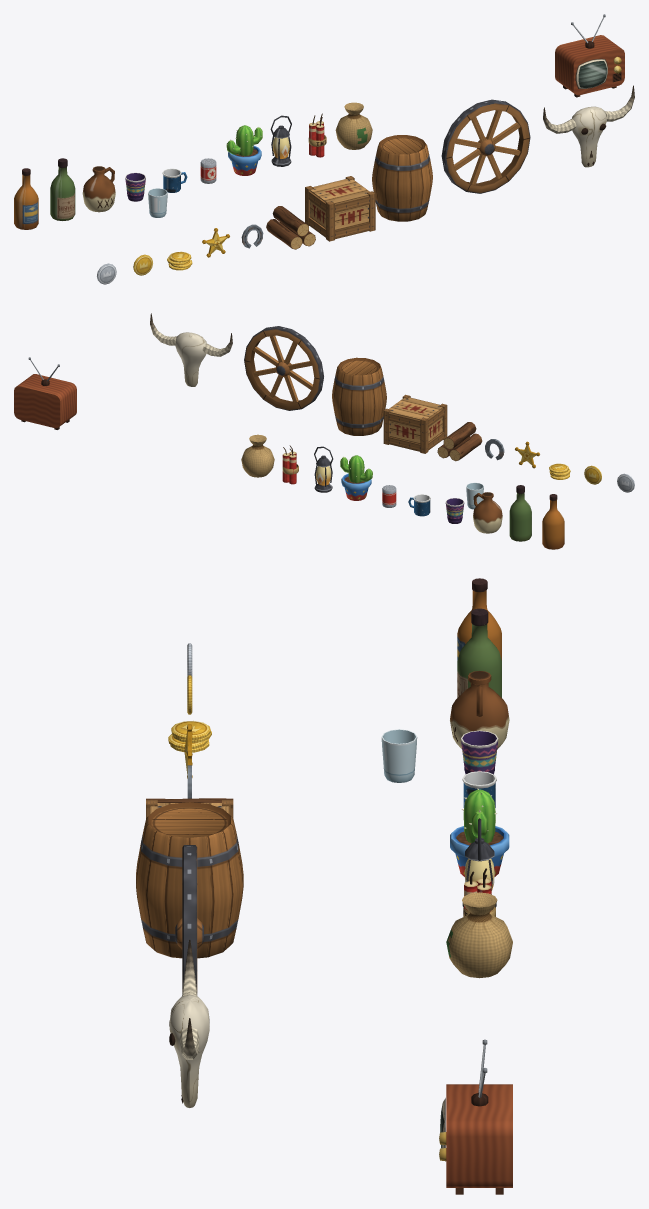
The model's file is rekvizity.glb.
The picture shows the model from 3 angles, top to bottom: view 1: azimuth 30°, elevation 25°; view 2: azimuth 150°, elevation 25°; view 3: azimuth 270°, elevation 25°; orthographic projection. The views are drawn at different scales.
Parts seen in each view (by area): view 1: prop_barrel, prop_wheel, prop_crate, prop_tv, prop_skull, prop_cactus_pot, prop_logs, prop_sack, prop_bottle_green, prop_jug, prop_bottle_amber, prop_lantern (+6 smaller); view 2: prop_barrel, prop_wheel, prop_crate, prop_tv, prop_skull, prop_cactus_pot, prop_logs, prop_sack, prop_bottle_green, prop_jug, prop_bottle_amber, prop_lantern (+4 smaller); view 3: prop_barrel, prop_tv, prop_sack, prop_skull, prop_jug, prop_cactus_pot, prop_bottle_green, prop_wheel, prop_glass_clear, prop_glass_striped, prop_bottle_amber, prop_lantern (+1 smaller).
Part boxes in pixels (box(x1,y1,x2,y2)): prop_barrel: box(372, 135, 432, 221); prop_wheel: box(441, 99, 530, 193); prop_crate: box(305, 176, 375, 241); prop_tv: box(555, 14, 624, 97); prop_skull: box(543, 85, 634, 167); prop_cactus_pot: box(226, 125, 262, 175); prop_logs: box(266, 206, 315, 249); prop_sack: box(335, 102, 372, 149); prop_bottle_green: box(50, 158, 75, 220); prop_jug: box(82, 166, 115, 212); prop_bottle_amber: box(14, 168, 38, 229); prop_lantern: box(270, 115, 291, 166); prop_barrel: box(332, 357, 386, 435); prop_wheel: box(244, 326, 323, 410); prop_crate: box(383, 394, 447, 453); prop_tv: box(14, 357, 76, 429); prop_skull: box(150, 313, 232, 386); prop_cactus_pot: box(340, 455, 372, 500); prop_logs: box(437, 422, 482, 461); prop_sack: box(241, 434, 274, 477); prop_bottle_green: box(509, 485, 531, 541); prop_jug: box(473, 492, 502, 533); prop_bottle_amber: box(542, 494, 564, 549); prop_lantern: box(314, 446, 333, 492); prop_barrel: box(136, 802, 243, 958); prop_tv: box(439, 1039, 512, 1194); prop_sack: box(446, 892, 512, 978); prop_skull: box(169, 939, 209, 1107); prop_jug: box(450, 670, 509, 749); prop_cactus_pot: box(450, 788, 509, 876); prop_bottle_green: box(457, 608, 501, 697); prop_wheel: box(175, 845, 203, 992); prop_glass_clear: box(381, 729, 417, 782); prop_glass_striped: box(461, 730, 498, 774); prop_bottle_amber: box(457, 578, 501, 660); prop_lantern: box(462, 818, 496, 907).
Size of the model in its own units: 2.8 by 0.3975 by 0.8459.
Materials: 1 (1 with a texture image).
